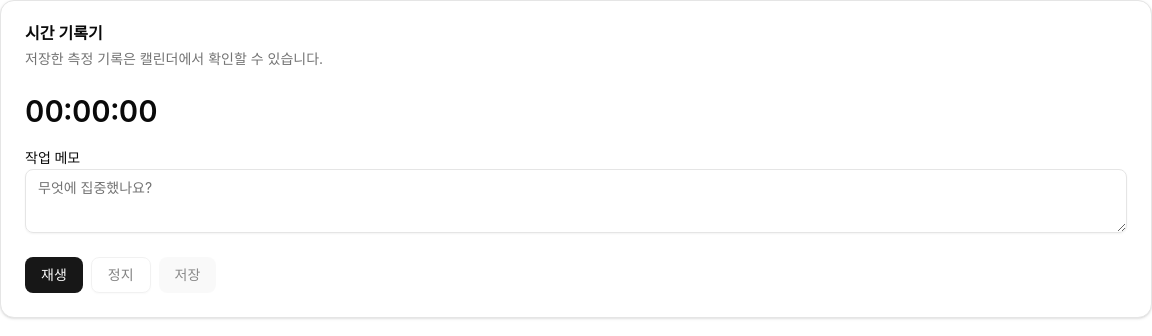
TimeTrackerCard › saves a stopped measured session with its memo and resets the timer
The width and height of the screenshot is (1152, 336).
Expected: the text "시간 기록기" is shown, [25, 23, 103, 43]
Expected: the text "저장한 측정 기록은 캘린더에서 확인할 수 있습니다." is shown, [25, 50, 323, 67]
Type "  설계 검토  " into the text box labelled "작업 메모". click: (576, 201)
box: [25, 169, 1127, 233]
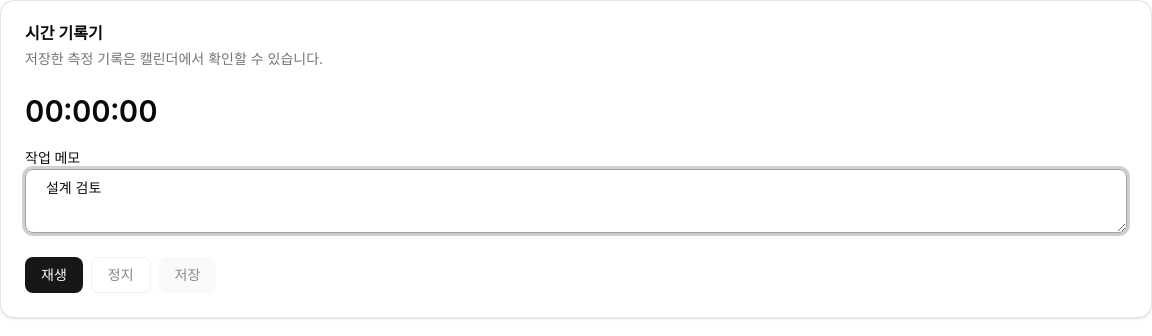
Click the button "재생". click: (54, 275)
box: [25, 257, 83, 293]
Wait 3000 ms
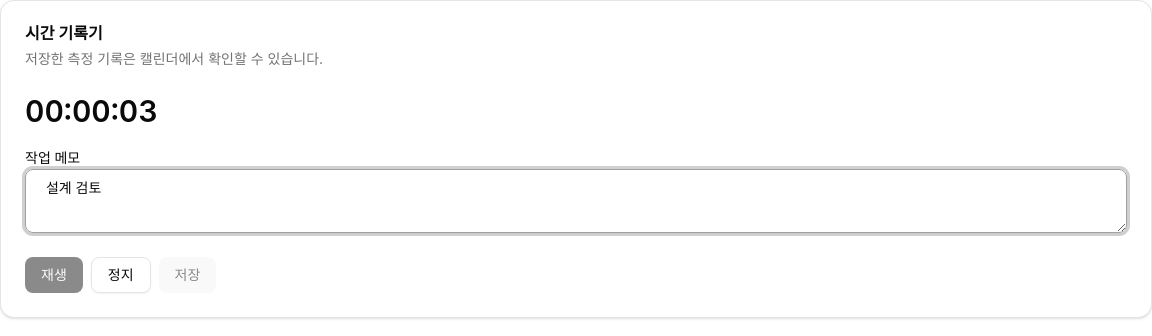
Expected: the button "저장" is disabled, [158, 257, 216, 293]
Result: the button "재생" is disabled at [25, 257, 83, 293]
Result: the text "00:00:03" is shown at [25, 93, 158, 129]
Click the button "정지". click: (121, 275)
box: [91, 257, 151, 293]
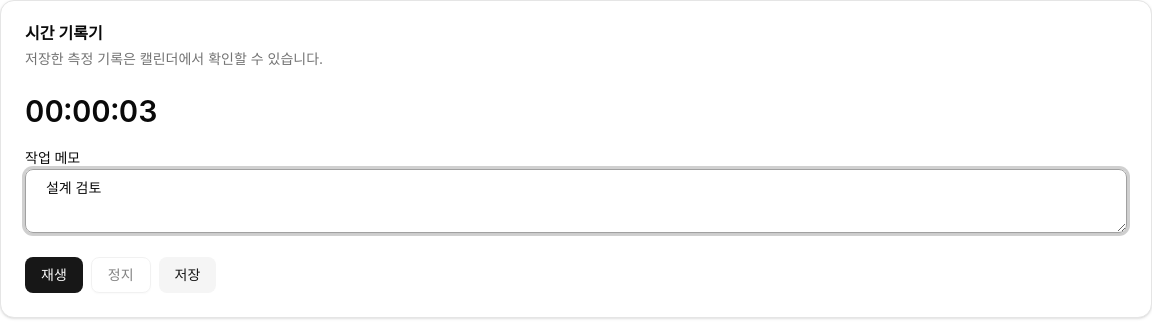
Result: the button "저장" is enabled
Click the button "저장". click: (187, 275)
box: [158, 257, 216, 293]
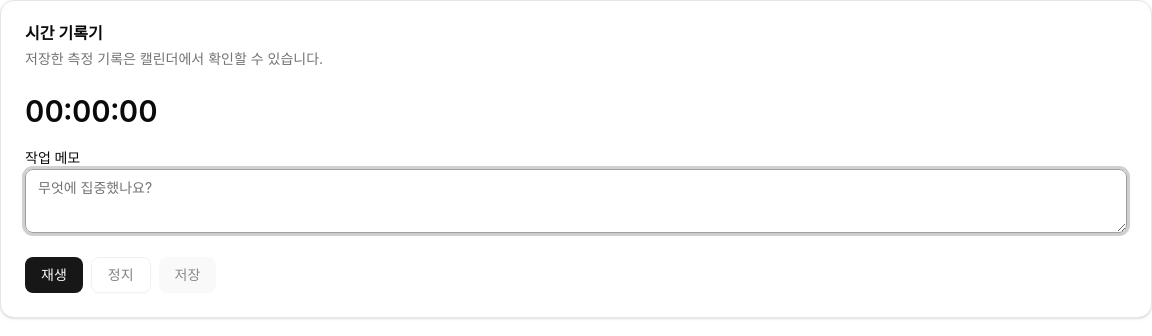
Result: the text "00:00:00" is shown at [25, 93, 158, 129]
Result: the text box labelled "작업 메모" is empty at [25, 169, 1127, 233]
Result: the button "저장" is disabled at [158, 257, 216, 293]
